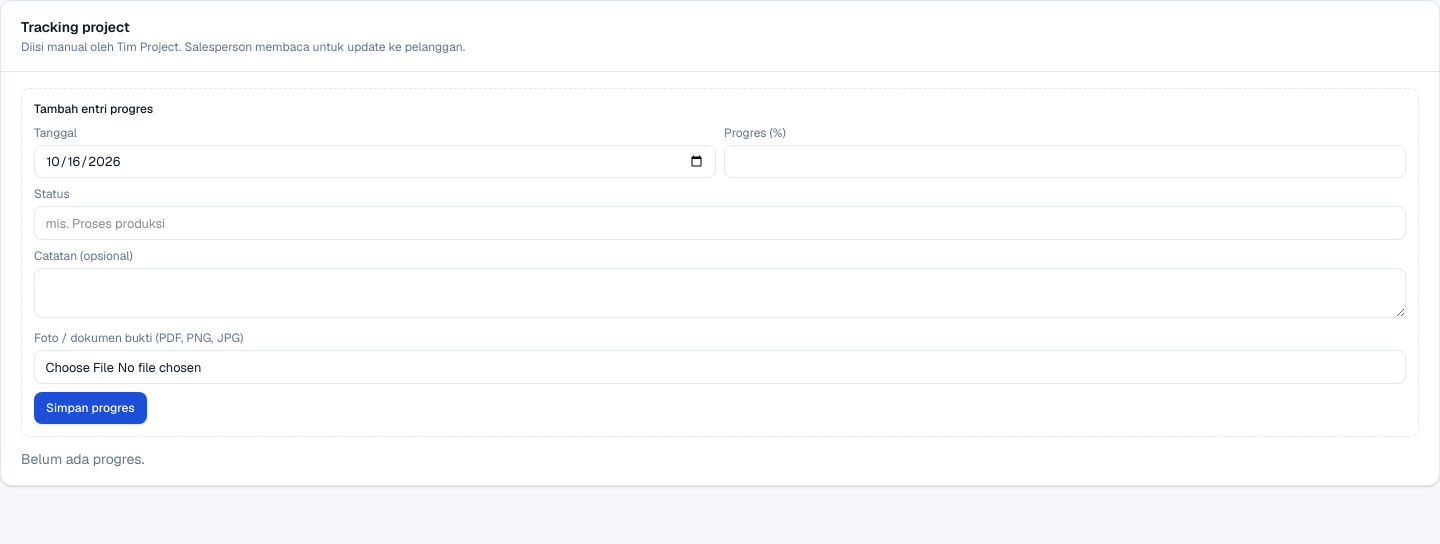
Test case: ProgressTracker: diisi Tim Project, dibaca yang lain › menampilkan kesalahan dari server
Type "50" into the number field at {"x": 1065, "y": 162}, box [724,145,1406,178]
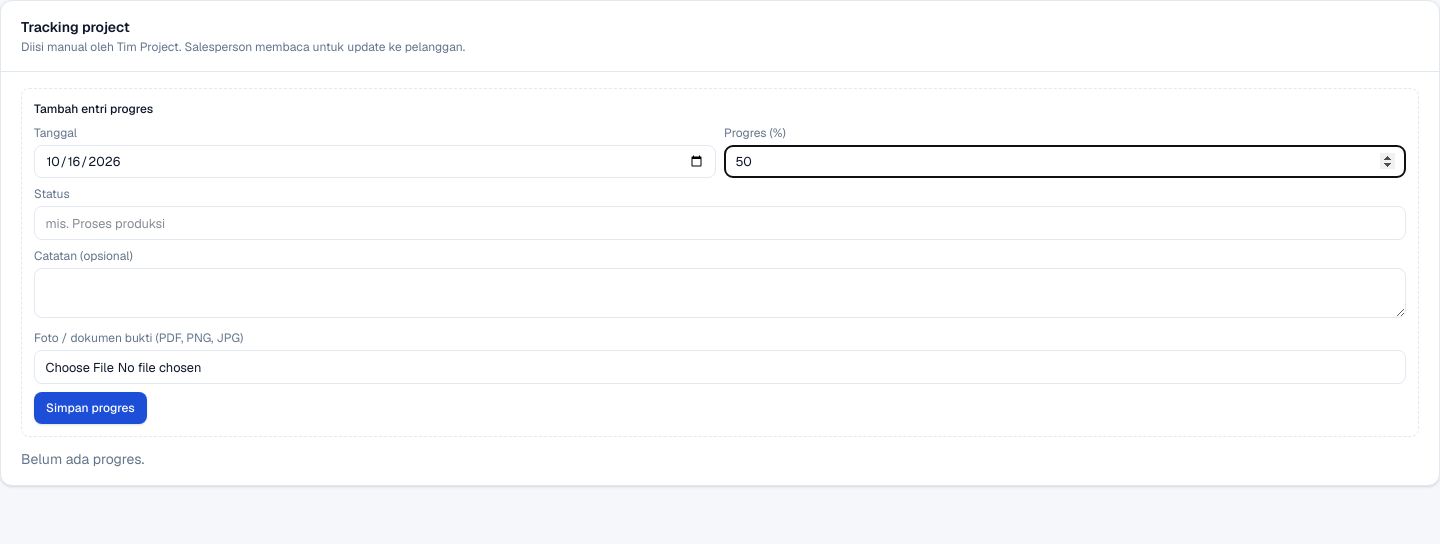
Type "X" into the field with placeholder "mis. Proses produksi" at {"x": 720, "y": 223}, box [34,206,1406,240]
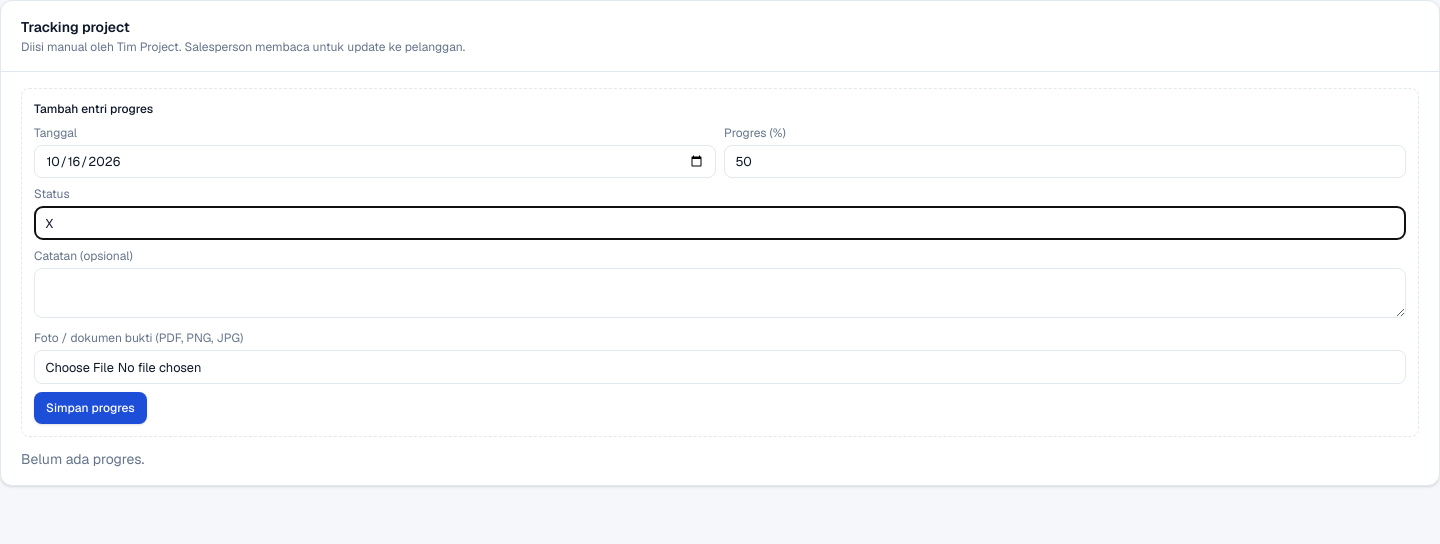
Click the button "Simpan progres" at {"x": 90, "y": 408}, box [34,392,147,424]
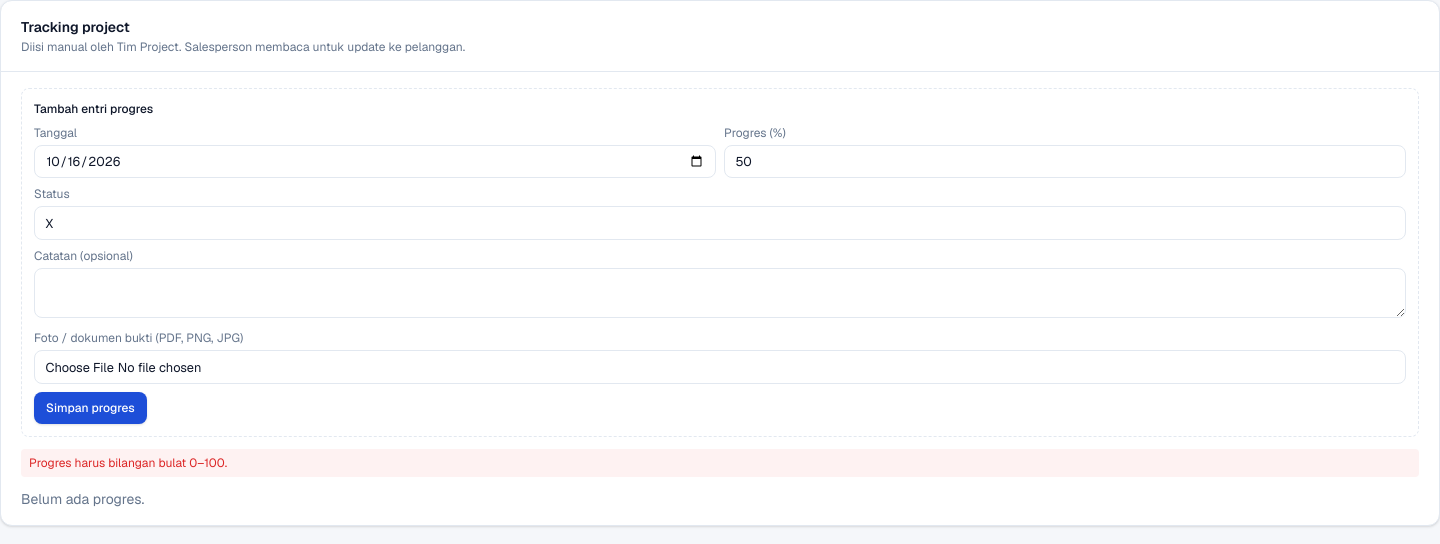
Now the text "Progres harus bilangan bulat 0–100." is shown, box [21,449,1419,477]
